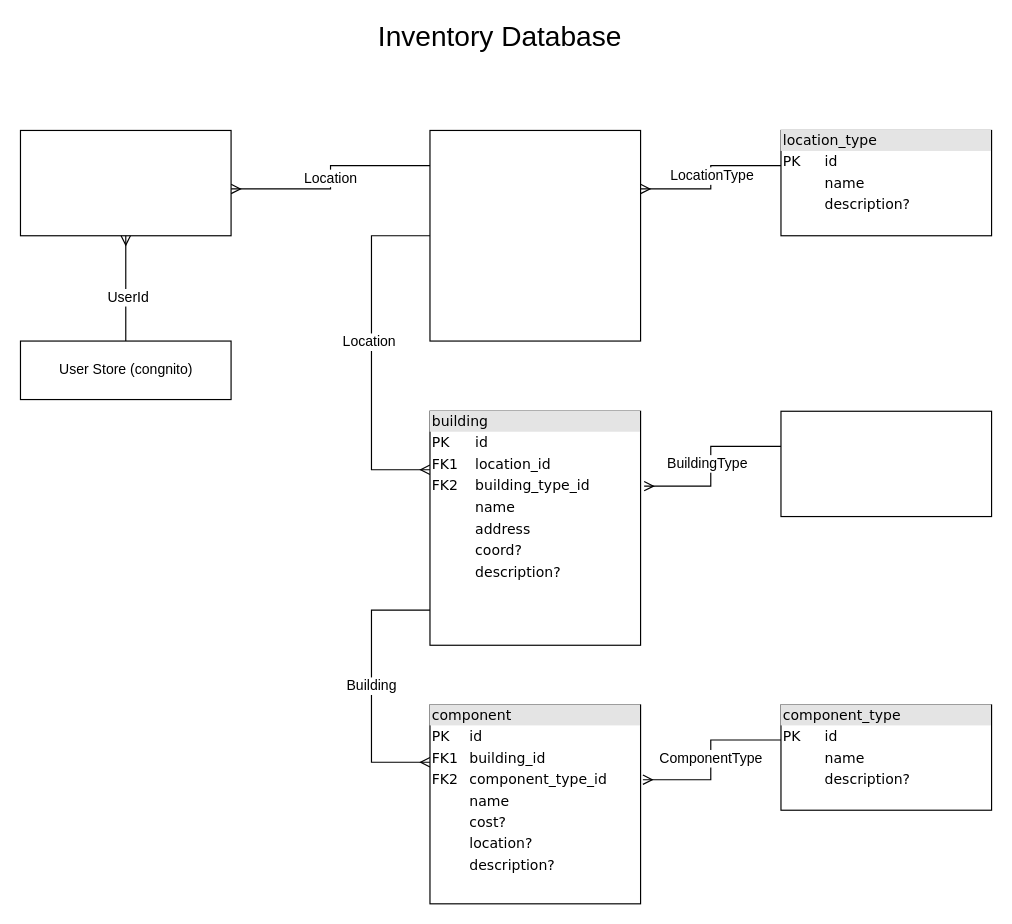
Image size: 1012x924. Some labels were removed from this diagram. Each missing label, with the centre of its shape:
"building_type PK id name description?" goes at pixel 886 463.
"location PK id FK1 location_type_id name coord? notes?" goes at pixel 535 235.
"user_location PK id FK1 location_id user_id" goes at pixel 125 182.
